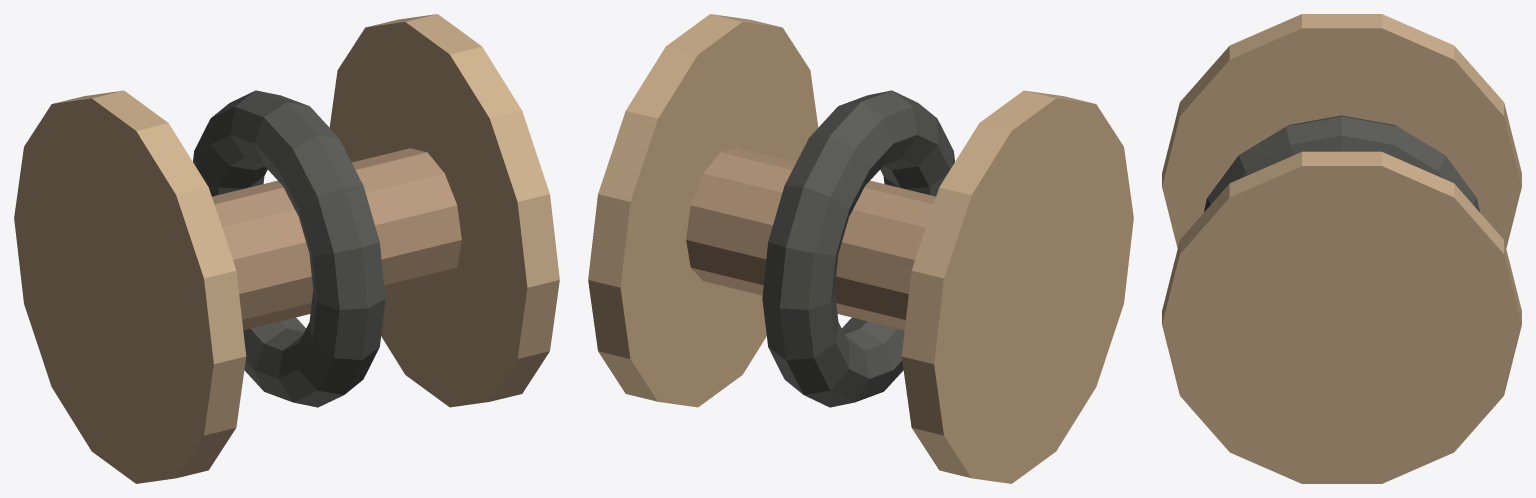
The model's file is cable_spool_04.glb.
The picture shows the model from 3 angles, left to right: view 1: azimuth 30°, elevation 25°; view 2: azimuth 150°, elevation 25°; view 3: azimuth 270°, elevation 25°; orthographic projection. The views are drawn at different scales.
Parts seen in each view (by area): view 1: left, right, cable, core; view 2: left, right, cable, core; view 3: right, left, cable.
Part boxes in pixels (left/top/right/bottom): left: left=14, top=90, right=246, bottom=483; right: left=329, top=14, right=559, bottom=407; cable: left=193, top=90, right=385, bottom=407; core: left=212, top=148, right=461, bottom=330; left: left=901, top=90, right=1133, bottom=483; right: left=588, top=14, right=818, bottom=407; cable: left=762, top=90, right=954, bottom=407; core: left=686, top=148, right=935, bottom=330; right: left=1162, top=151, right=1521, bottom=483; left: left=1162, top=14, right=1521, bottom=248; cable: left=1204, top=115, right=1479, bottom=211.
Bounding box in the file's own units: 0.64 × 0.624 × 0.64.
